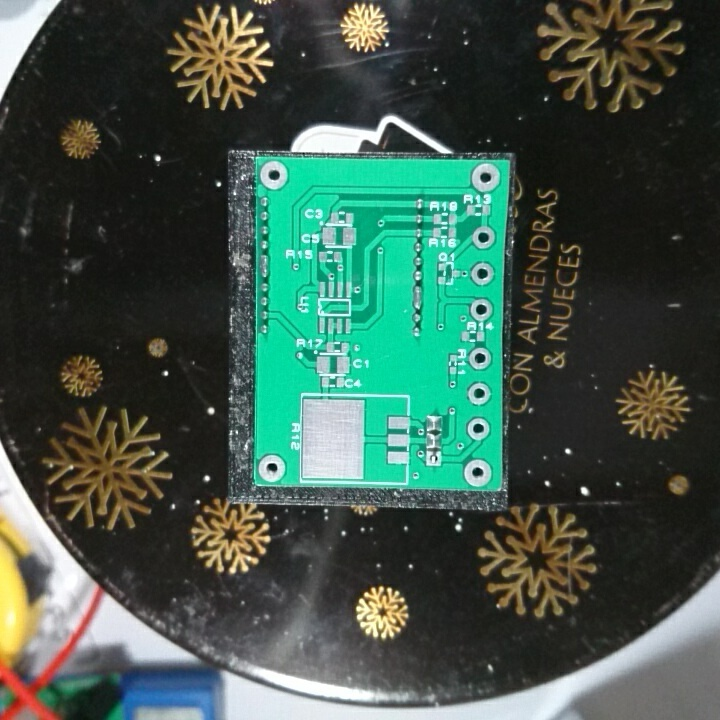F: (258, 157, 292, 191), (470, 162, 503, 195), (461, 458, 495, 489), (257, 450, 287, 485), (466, 379, 495, 407), (469, 259, 496, 289), (471, 224, 499, 252), (468, 295, 496, 323), (465, 416, 492, 445), (465, 345, 492, 373), (424, 449, 446, 471)
P: (256, 251, 276, 279), (411, 283, 427, 311)
